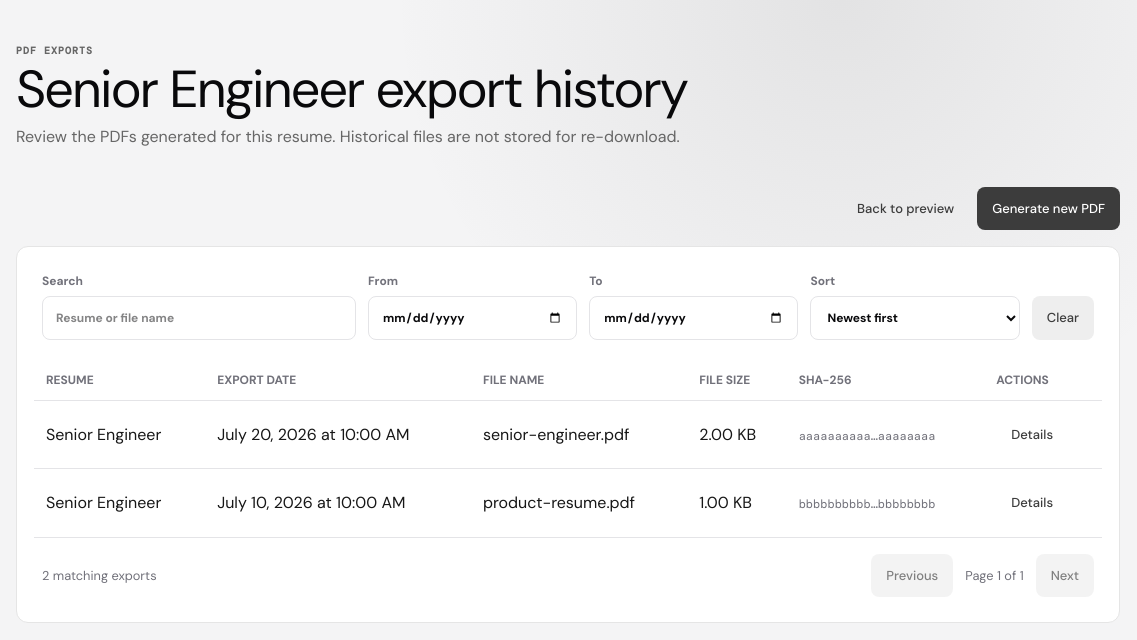
PDF export history › searches records and explains an empty filtered result
In the search field with placeholder "Resume or file name": (199, 318) [42,296,356,340], type "missing-file"
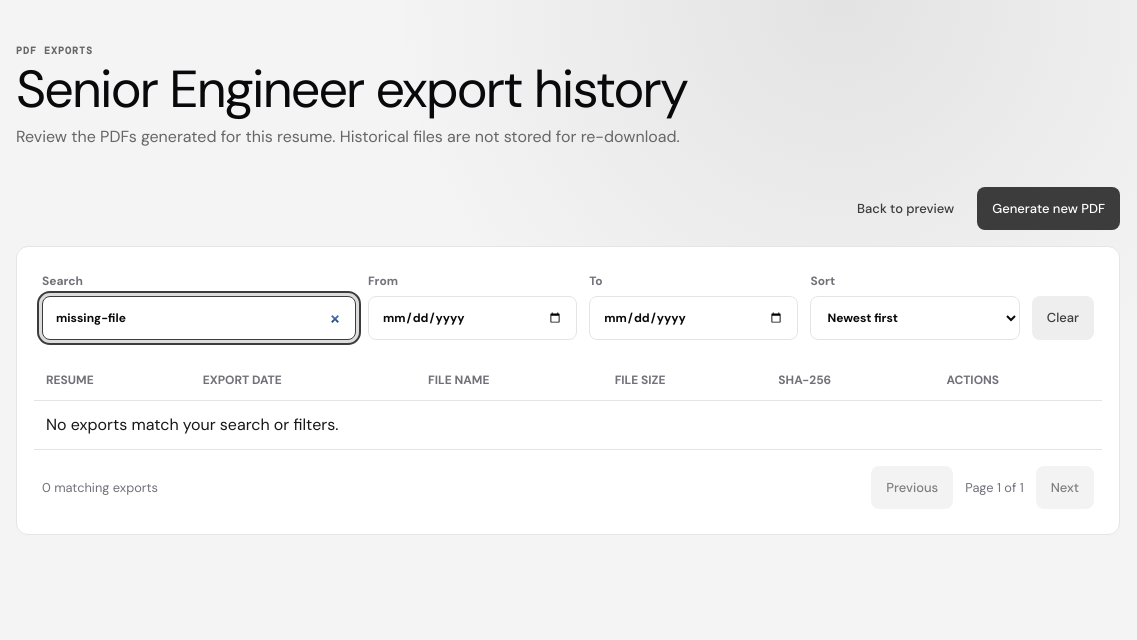
Now the text "No exports match your search or filters." is shown, box [34,400,1102,449]
